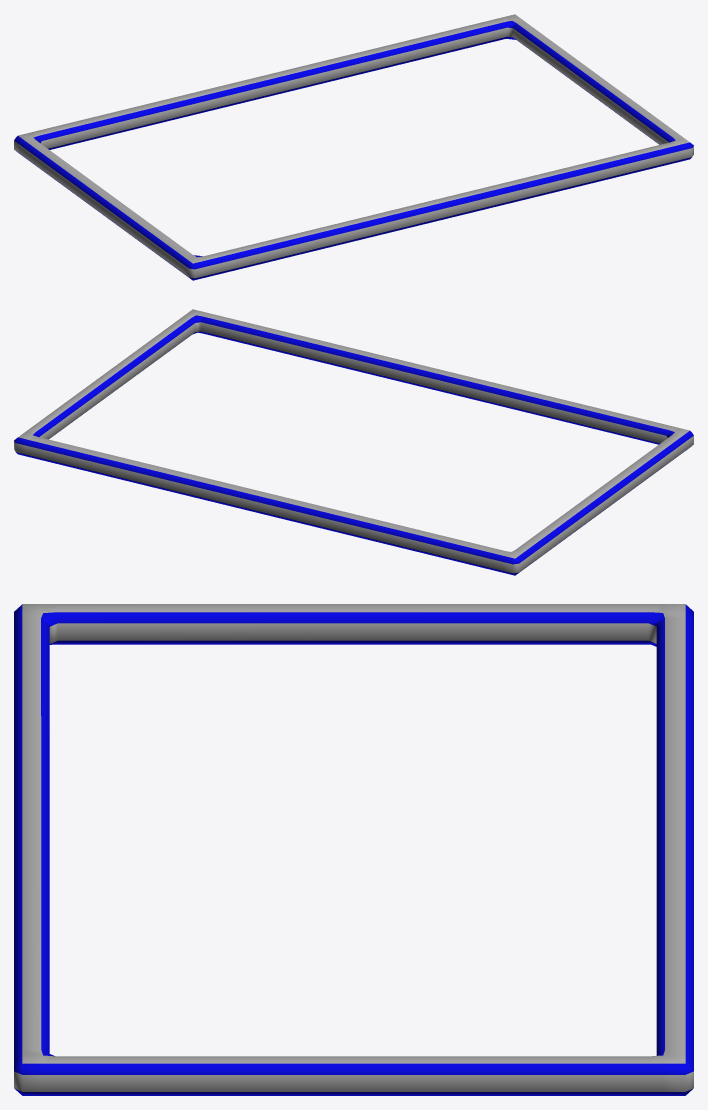
The model's file is boarder.fbx.
3 renders of one model, top to bottom at view 1: azimuth 30°, elevation 25°; view 2: azimuth 150°, elevation 25°; view 3: azimuth 270°, elevation 25°, orthographic. The views are drawn at different scales.
Visible parts, largest first — view 1: pCube1; view 2: pCube1; view 3: pCube1.
Boxes of the visible parts, <box> form: pCube1: <box>14,14,693,280</box>; pCube1: <box>14,309,693,575</box>; pCube1: <box>14,604,693,1095</box>.
Bounding box in the file's own units: 30.98 × 1 × 19.07.
